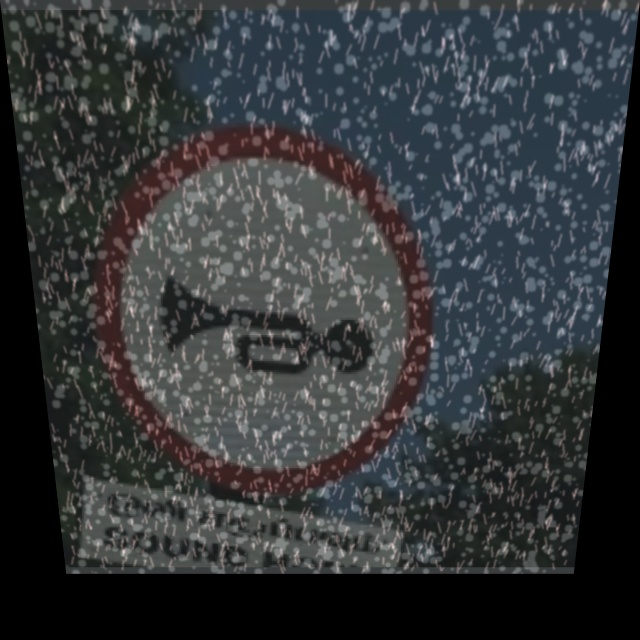Compulsory_Sound_Horn: (105, 139, 439, 468)
